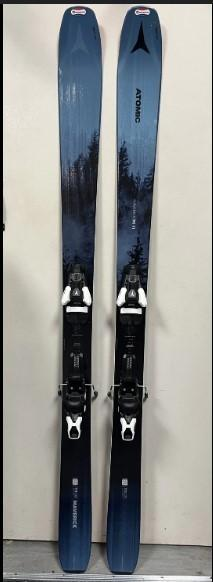Skis: (101, 4, 166, 582), (48, 8, 106, 574)
